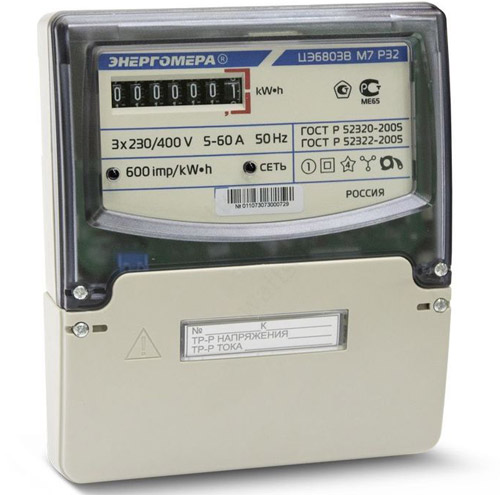counter: (29, 0, 458, 490)
counter_screen: (108, 72, 250, 109)
